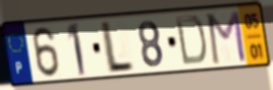1: (65, 22, 88, 78)
6: (31, 25, 61, 79)
8: (137, 19, 166, 69)
D: (173, 14, 208, 67)
L: (100, 19, 135, 76)
M: (205, 8, 248, 66)
